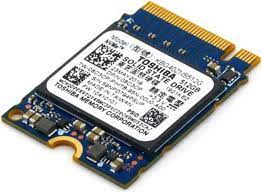ssd2230: (1, 1, 261, 189)
